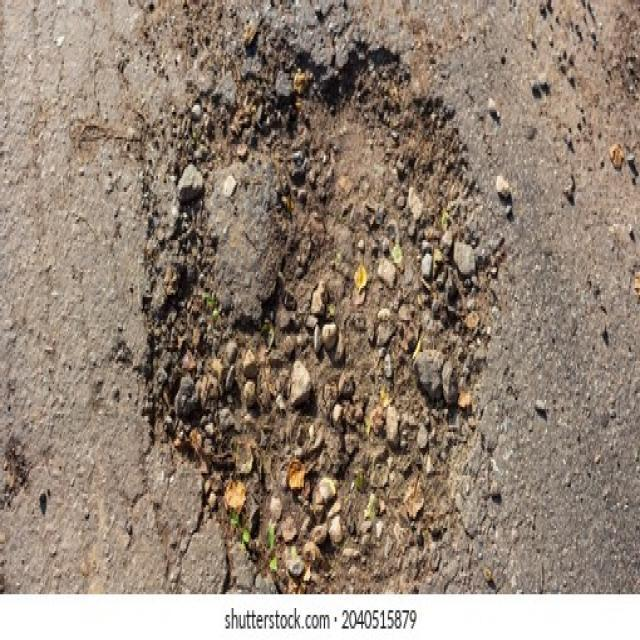Pothole: (136, 41, 507, 583)
